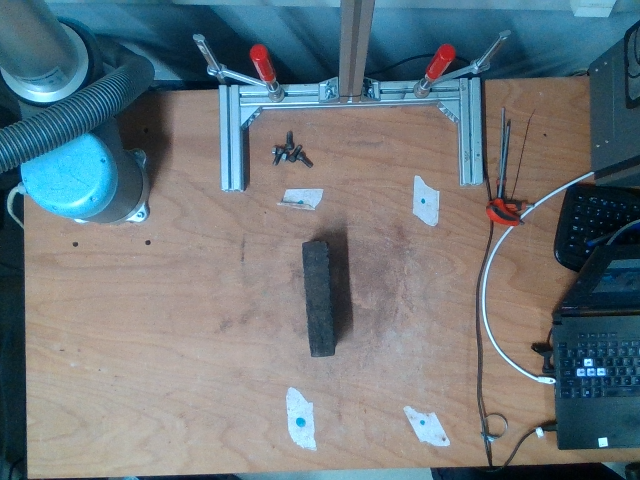brick-side: (301, 242, 336, 355)
